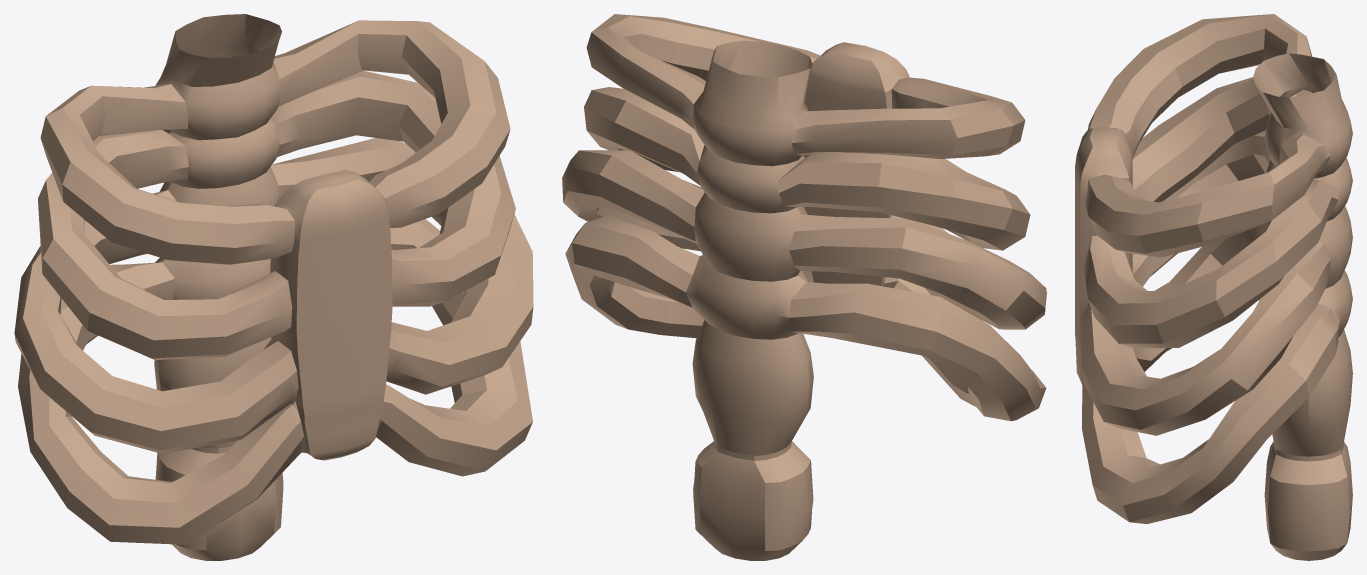
The model's file is Chest.fbx.
3 renders of one model, left to right at view 1: azimuth 30°, elevation 25°; view 2: azimuth 150°, elevation 25°; view 3: azimuth 270°, elevation 25°, orthographic. The views are drawn at different scales.
Parts seen in each view (by area): view 1: Check bones; view 2: Check bones; view 3: Check bones.
Boxes of the visible parts, <box> form: Check bones: <box>14,14,533,560</box>; Check bones: <box>562,14,1046,560</box>; Check bones: <box>1075,14,1352,560</box>.
Bounding box in the file's own units: 80.65 × 80.4 × 43.14.
